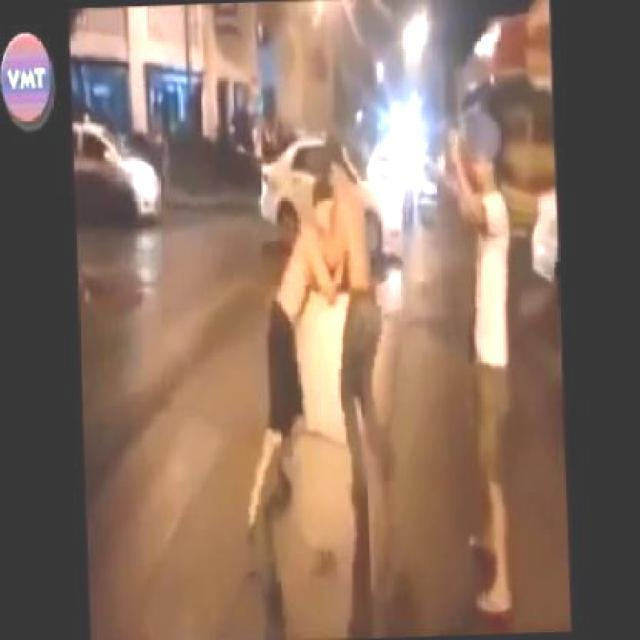fight: (256, 139, 396, 556)
